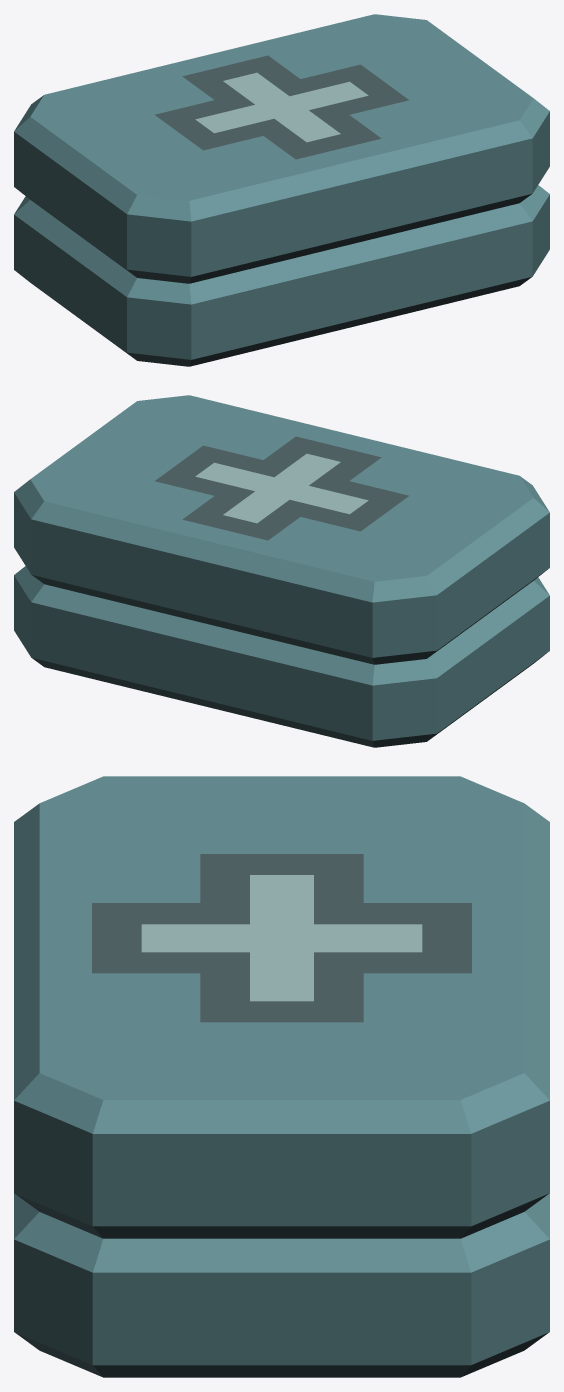
Rendered from item_medicine_industrial_b.obj.
3 renders of one model, top to bottom at view 1: azimuth 30°, elevation 25°; view 2: azimuth 150°, elevation 25°; view 3: azimuth 270°, elevation 25°, orthographic. The views are drawn at different scales.
Size of the model in its own units: 0.6912 by 0.2592 by 0.4536.
